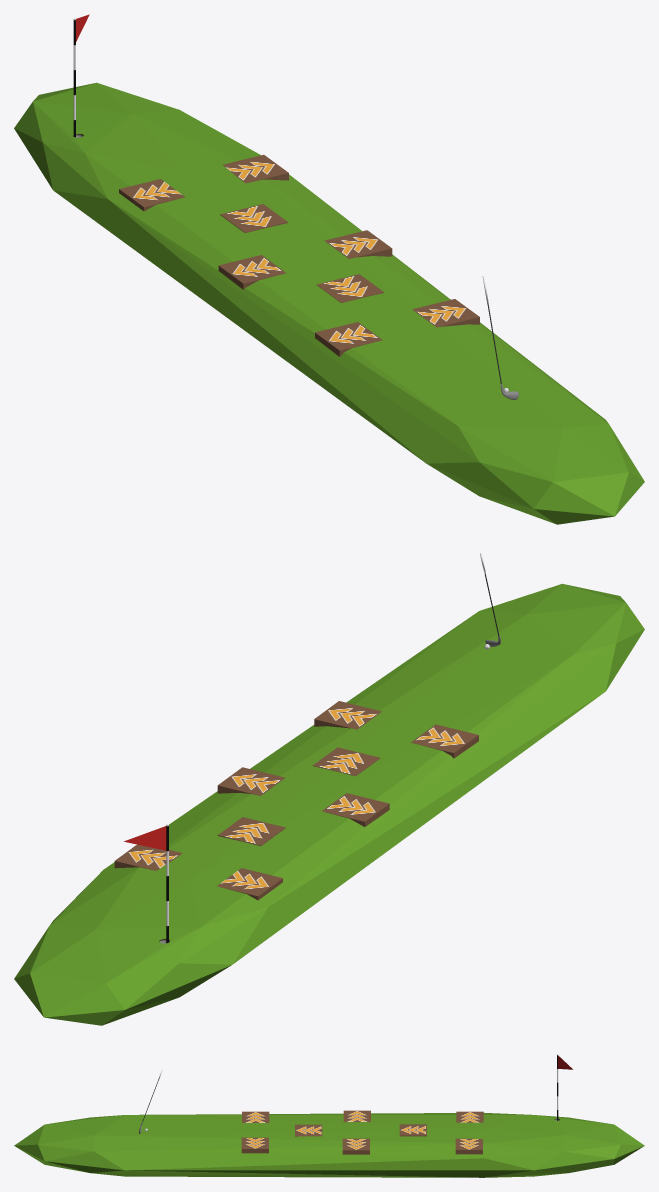
File: level_4.glb
The picture shows the model from 3 angles, top to bottom: view 1: azimuth 30°, elevation 25°; view 2: azimuth 150°, elevation 25°; view 3: azimuth 270°, elevation 25°; orthographic projection. The views are drawn at different scales.
Visible parts, largest first — view 1: grass, speed.003, speed.002, speed.004, speed.001, speed.007, speed.006, speed.005, speed; view 2: grass, speed.003, speed.002, speed.004, speed.001, speed.007, speed.005, speed, speed.006; view 3: grass, speed.004, speed.001, speed.006, speed.005, speed, speed.007, speed.002, speed.003.
Part boxes in pixels (left/top/right/bottom): grass: left=14, top=82, right=644, bottom=524; speed.003: left=218, top=255, right=286, bottom=289; speed.002: left=315, top=322, right=382, bottom=356; speed.004: left=324, top=230, right=392, bottom=258; speed.001: left=412, top=299, right=479, bottom=327; speed.007: left=119, top=179, right=185, bottom=211; speed.006: left=222, top=154, right=288, bottom=183; speed.005: left=220, top=204, right=288, bottom=232; speed: left=316, top=274, right=384, bottom=302; grass: left=14, top=583, right=644, bottom=1025; speed.003: left=322, top=793, right=389, bottom=826; speed.002: left=411, top=724, right=478, bottom=758; speed.004: left=217, top=767, right=285, bottom=795; speed.001: left=314, top=701, right=381, bottom=729; speed.007: left=217, top=868, right=282, bottom=900; speed.005: left=217, top=817, right=285, bottom=846; speed: left=312, top=747, right=380, bottom=776; speed.006: left=114, top=844, right=182, bottom=870; grass: left=14, top=1112, right=644, bottom=1177; speed.004: left=342, top=1138, right=369, bottom=1154; speed.001: left=241, top=1137, right=268, bottom=1153; speed.006: left=455, top=1138, right=482, bottom=1154; speed.005: left=399, top=1124, right=426, bottom=1136; speed: left=295, top=1124, right=322, bottom=1136; speed.007: left=456, top=1111, right=483, bottom=1122; speed.002: left=242, top=1111, right=269, bottom=1122; speed.003: left=343, top=1110, right=370, bottom=1121.
Bounding box in the file's own units: 37.6 × 35.99 × 209.
Materials: 12 (1 with a texture image).
